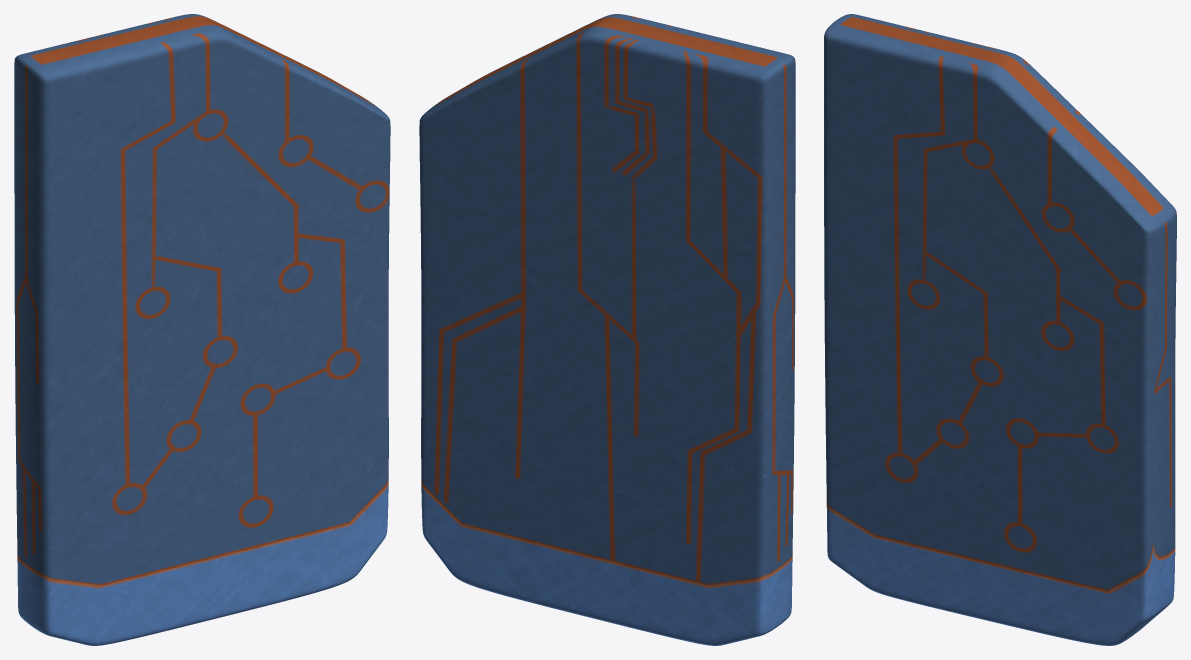
The model's file is Keycard3.fbx.
3 renders of one model, left to right at view 1: azimuth 30°, elevation 25°; view 2: azimuth 150°, elevation 25°; view 3: azimuth 330°, elevation 25°, orthographic. The views are drawn at different scales.
Visible parts, largest first — view 1: Keycard; view 2: Keycard; view 3: Keycard.
Part boxes in pixels (bbox=[...]): Keycard: bbox=[14, 14, 390, 645]; Keycard: bbox=[419, 14, 795, 645]; Keycard: bbox=[824, 14, 1176, 645].
Size of the model in its own units: 3.68 by 5.88 by 0.5812.
1 material, 1 textured.
